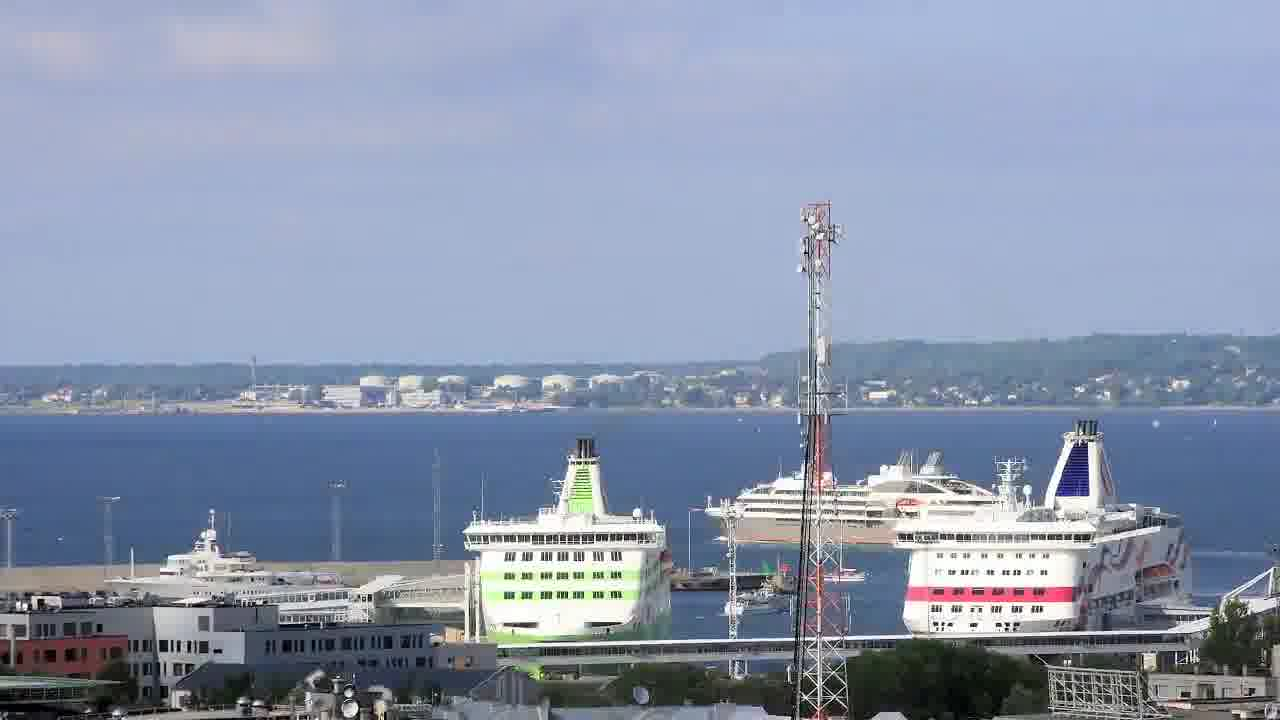type-0: (719, 569, 807, 631)
type-3: (868, 415, 1225, 638), (436, 434, 694, 670), (702, 447, 998, 571), (99, 518, 352, 614)
